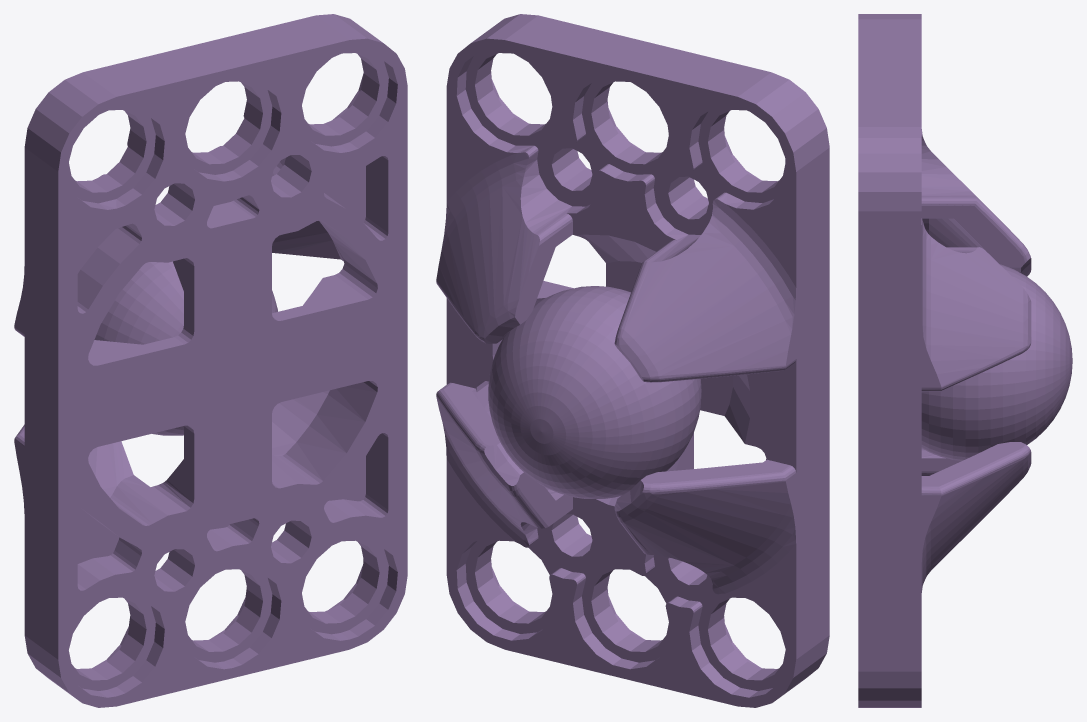
The model's file is caster_rear_link.glb.
The picture shows the model from 3 angles, left to right: view 1: azimuth 30°, elevation 25°; view 2: azimuth 150°, elevation 25°; view 3: azimuth 270°, elevation 25°; orthographic projection. The views are drawn at different scales.
Size of the model in its own units: 0.018 by 0.03 by 0.0101.
